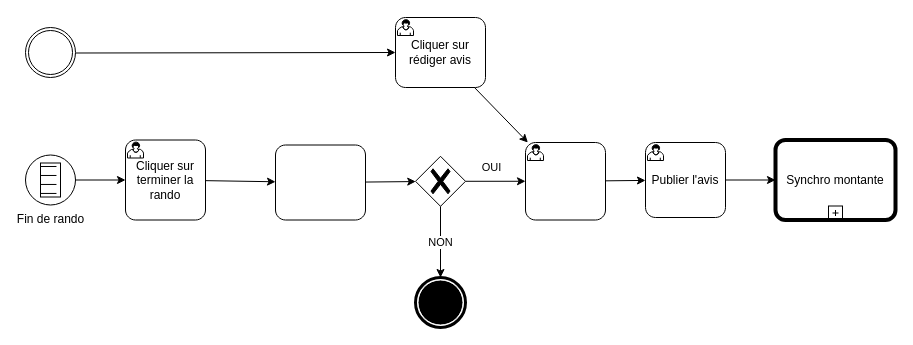
Some shapes in this 913 by 345 pixel diagram are drawn without their labels. The centre of each missing label's shape, as x and y in pixels:
Proposer de laisser un avis: point 320,182
Randonnée ouverte: point 50,52
Rédiger avis: point 565,181
